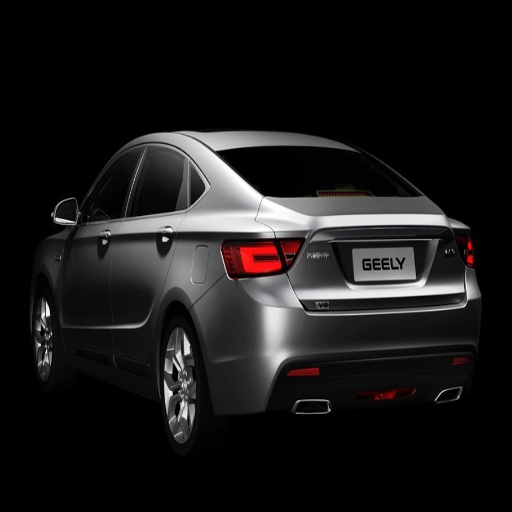back_bumper: (194, 265, 509, 422)
back_glass: (216, 147, 420, 197)
back_left_door: (111, 139, 189, 367)
tailgate: (275, 197, 451, 306)
